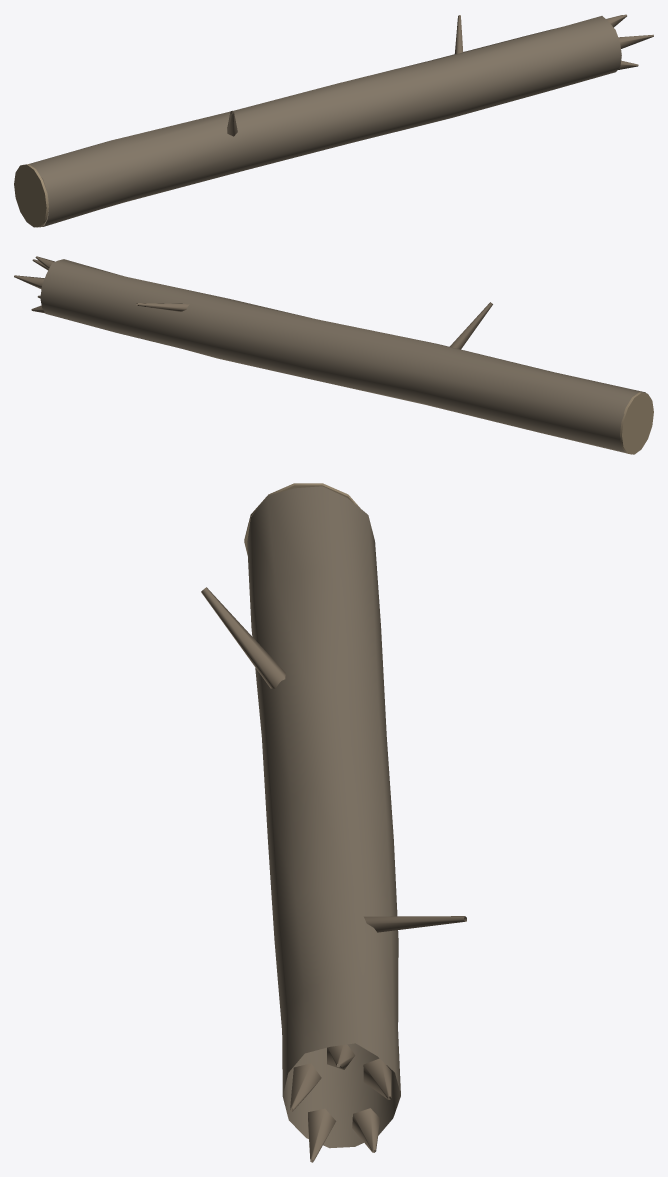
The model's file is log_b.glb.
3 views of the same model, one above another, from view 1: azimuth 30°, elevation 25°; view 2: azimuth 150°, elevation 25°; view 3: azimuth 270°, elevation 25° (orthographic). The views are drawn at different scales.
Visible parts, largest first — view 1: log_b; view 2: log_b; view 3: log_b.
Part boxes in pixels (left/top/right/bottom): log_b: left=14, top=14, right=653, bottom=227; log_b: left=14, top=256, right=653, bottom=454; log_b: left=201, top=483, right=466, bottom=1162.
Size of the model in its own units: 5.37 by 0.7551 by 1.02.
